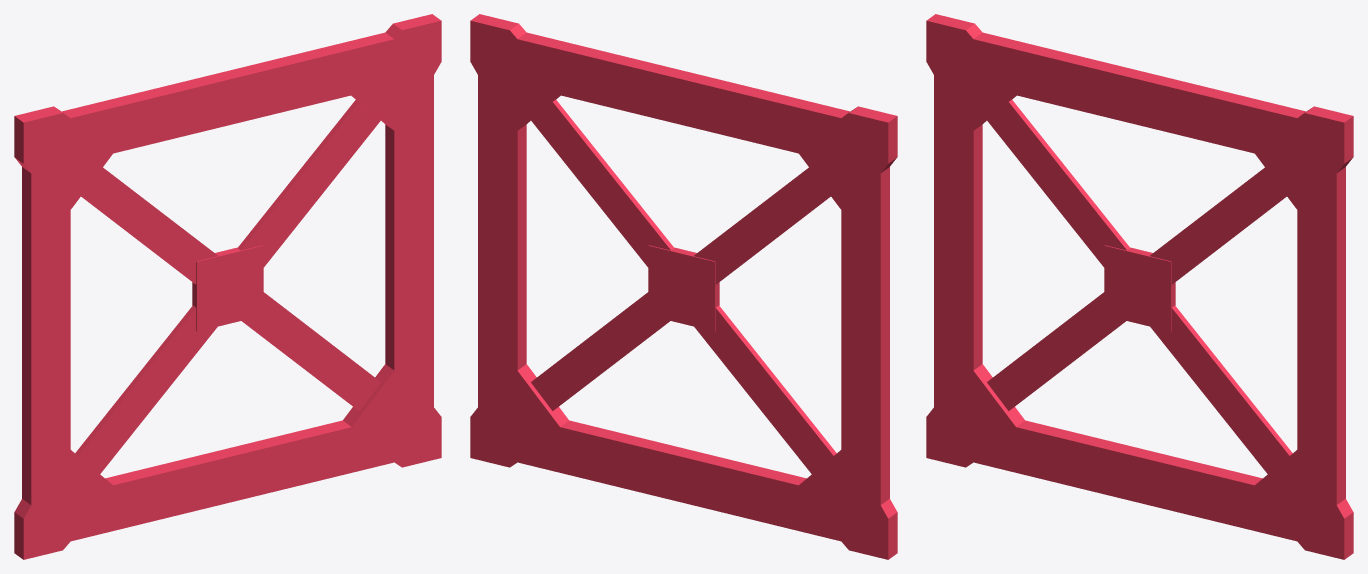
File: CbpProps C.fbx
3 renders of one model, left to right at view 1: azimuth 30°, elevation 25°; view 2: azimuth 150°, elevation 25°; view 3: azimuth 330°, elevation 25°, orthographic.
Parts seen in each view (by area): view 1: CbpProps C; view 2: CbpProps C; view 3: CbpProps C.
Boxes of the visible parts, x1,y1,x2,y2 form: CbpProps C: (14,14,441,559); CbpProps C: (470,14,897,559); CbpProps C: (926,14,1353,559).
Size of the model in its own units: 4.6 by 4.6 by 0.1749.
